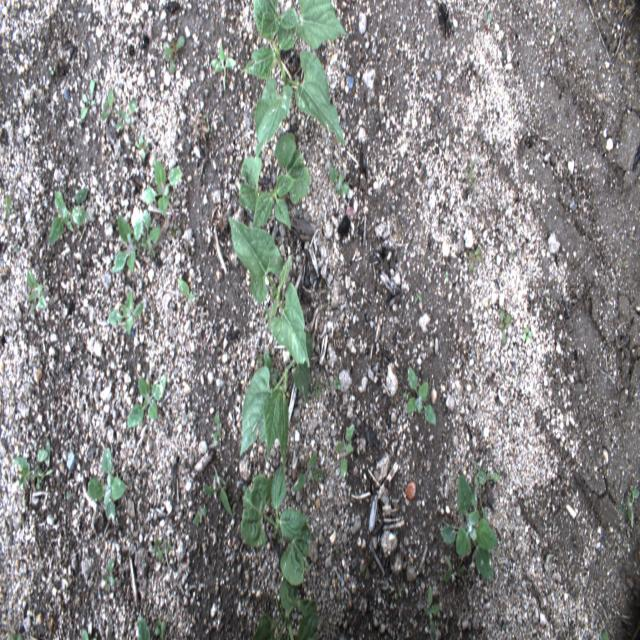crop: (240, 0, 344, 161), (228, 217, 308, 367), (240, 329, 313, 470), (240, 465, 311, 586), (238, 133, 310, 230), (252, 570, 316, 639), (261, 0, 346, 50), (298, 611, 320, 639)
weed: (439, 474, 498, 581), (88, 447, 128, 521), (48, 188, 90, 248), (138, 160, 182, 216), (14, 436, 53, 493), (112, 204, 144, 273), (127, 374, 167, 428), (405, 365, 436, 427), (107, 289, 144, 336), (203, 463, 233, 518), (292, 449, 324, 494), (210, 43, 238, 90), (25, 267, 50, 316), (140, 208, 162, 258), (335, 423, 354, 480), (423, 582, 441, 640), (474, 471, 494, 523), (262, 348, 280, 393), (620, 487, 638, 529), (328, 164, 350, 197), (115, 96, 136, 130), (443, 553, 465, 584), (80, 78, 96, 120), (162, 34, 186, 60), (498, 307, 512, 348), (178, 277, 200, 303), (148, 536, 170, 562), (162, 40, 176, 75), (100, 86, 113, 121), (102, 558, 115, 592), (468, 246, 482, 274), (475, 469, 501, 484), (463, 158, 476, 185), (360, 555, 374, 580), (192, 505, 207, 526), (138, 614, 150, 639), (213, 410, 221, 446), (137, 133, 148, 159), (479, 9, 491, 32), (2, 193, 12, 219), (154, 618, 166, 638), (167, 223, 183, 238), (311, 379, 321, 400), (522, 327, 533, 343), (334, 372, 341, 391), (8, 632, 24, 639), (473, 461, 477, 487), (321, 382, 329, 394), (599, 630, 608, 639), (81, 629, 89, 639), (414, 293, 422, 303)
